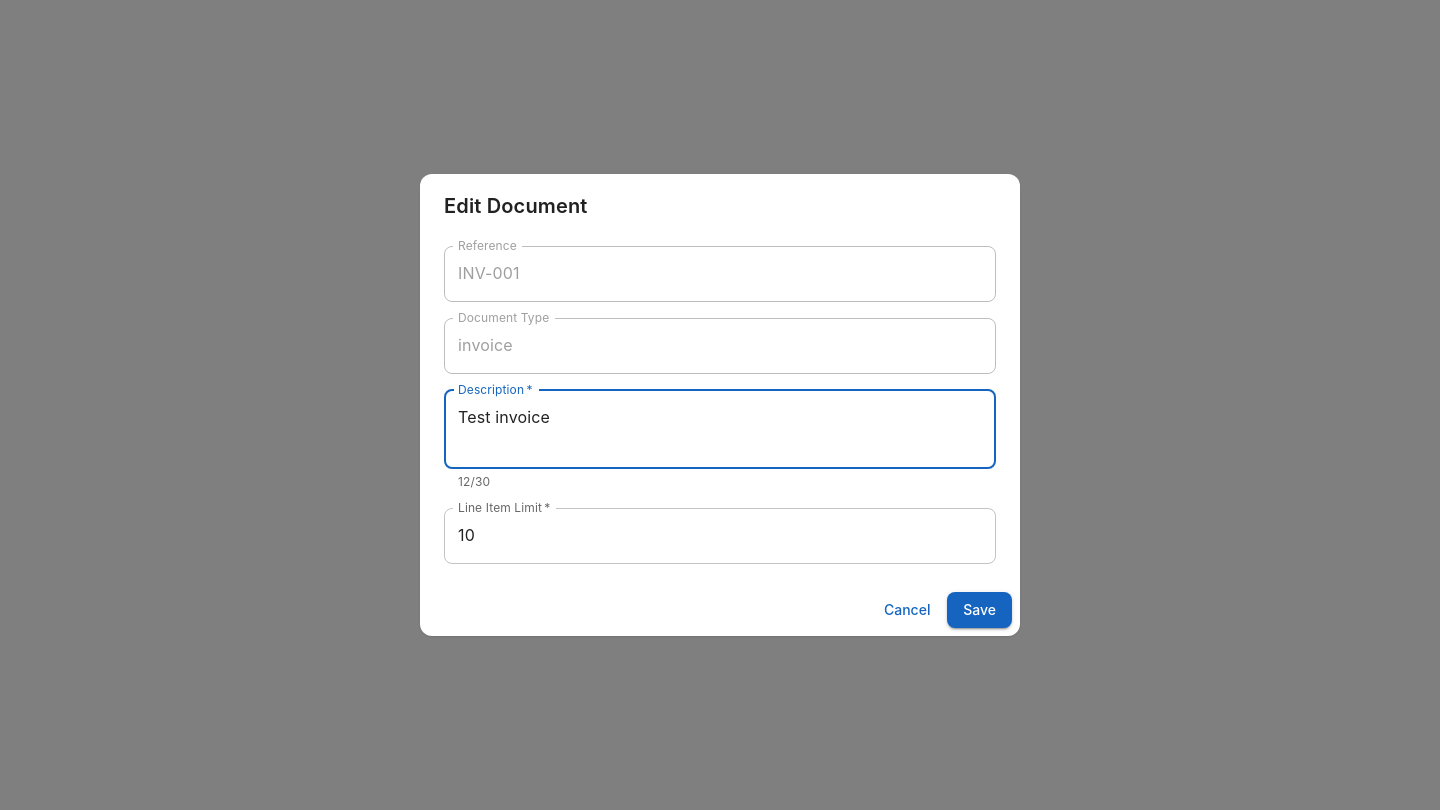
Test case: UpdateDocumentDialog › shows validation error when description is empty
Clear the text box labelled "Description *" at coordinates (720, 429), box top-left (458, 406), bottom-right (982, 452)
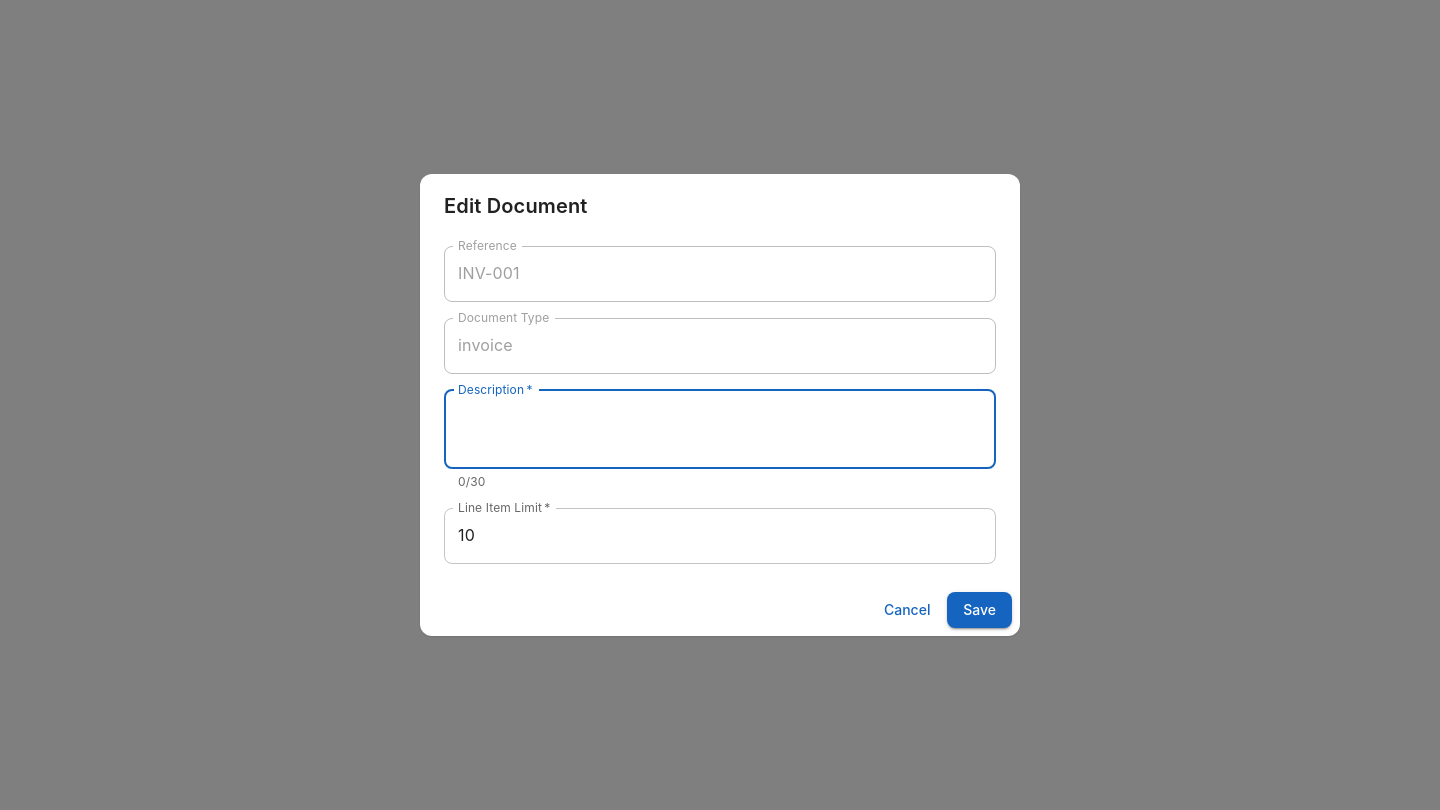
Click the button "Save" at coordinates (980, 610), box top-left (947, 592), bottom-right (1012, 628)
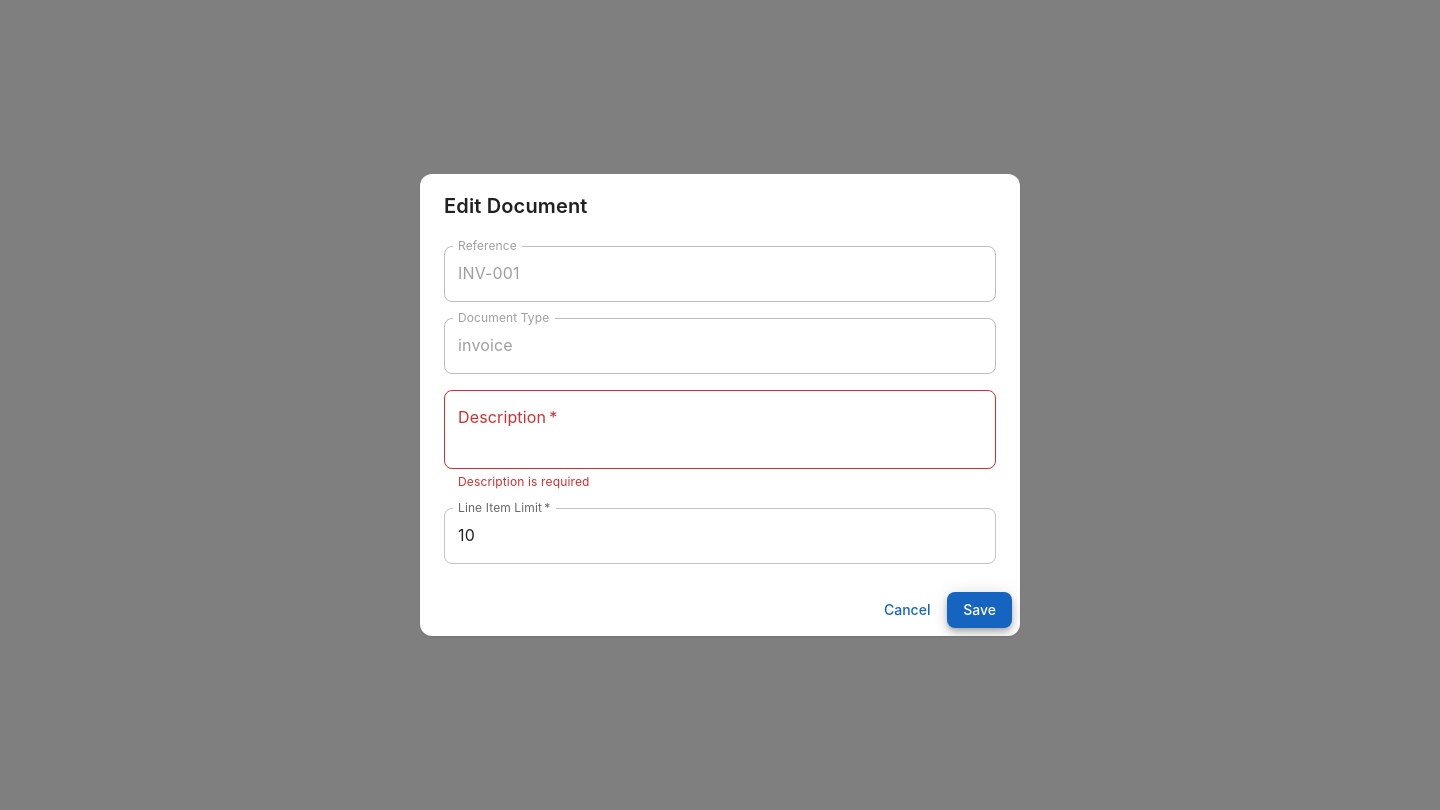
Check: the text "Description is required" is shown, box top-left (458, 474), bottom-right (590, 489)
